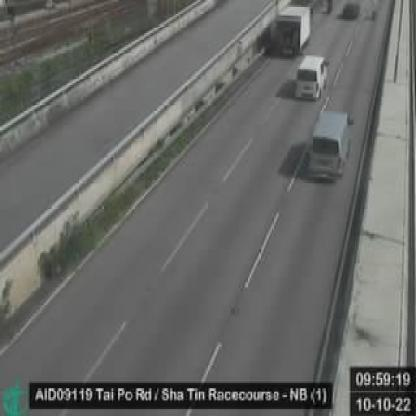Car: (309, 106, 351, 181), (295, 55, 329, 100), (344, 0, 361, 18)
Truck: (274, 3, 310, 56)
